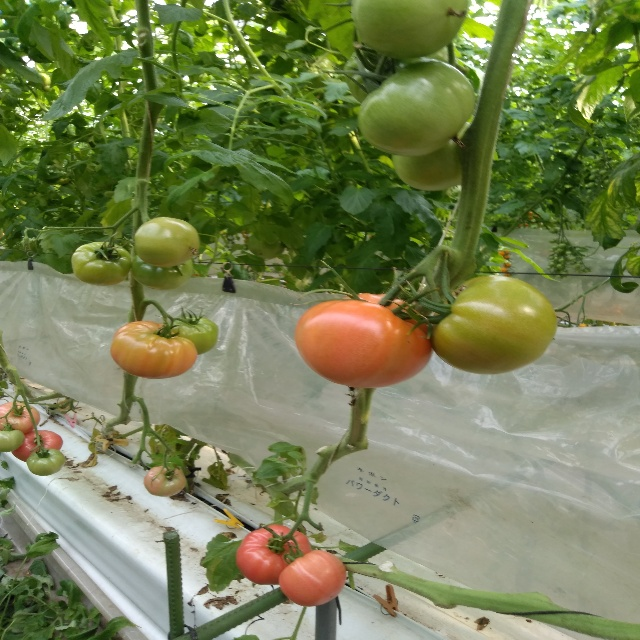b_fully_ripened: (236, 524, 312, 585), (10, 429, 63, 462)
b_green: (429, 274, 558, 375), (358, 58, 476, 158), (351, 0, 468, 59), (344, 41, 452, 104), (391, 122, 470, 191), (133, 217, 200, 267), (72, 241, 132, 286), (131, 255, 193, 290), (167, 316, 219, 355), (25, 448, 65, 477), (0, 429, 25, 453)
b_half_ripened: (295, 292, 433, 388), (110, 320, 198, 380), (279, 550, 347, 606), (143, 466, 186, 497), (1, 401, 40, 434)
